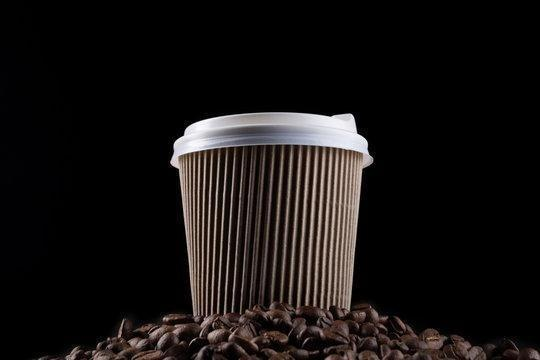cup-disposable: (168, 106, 376, 317)
